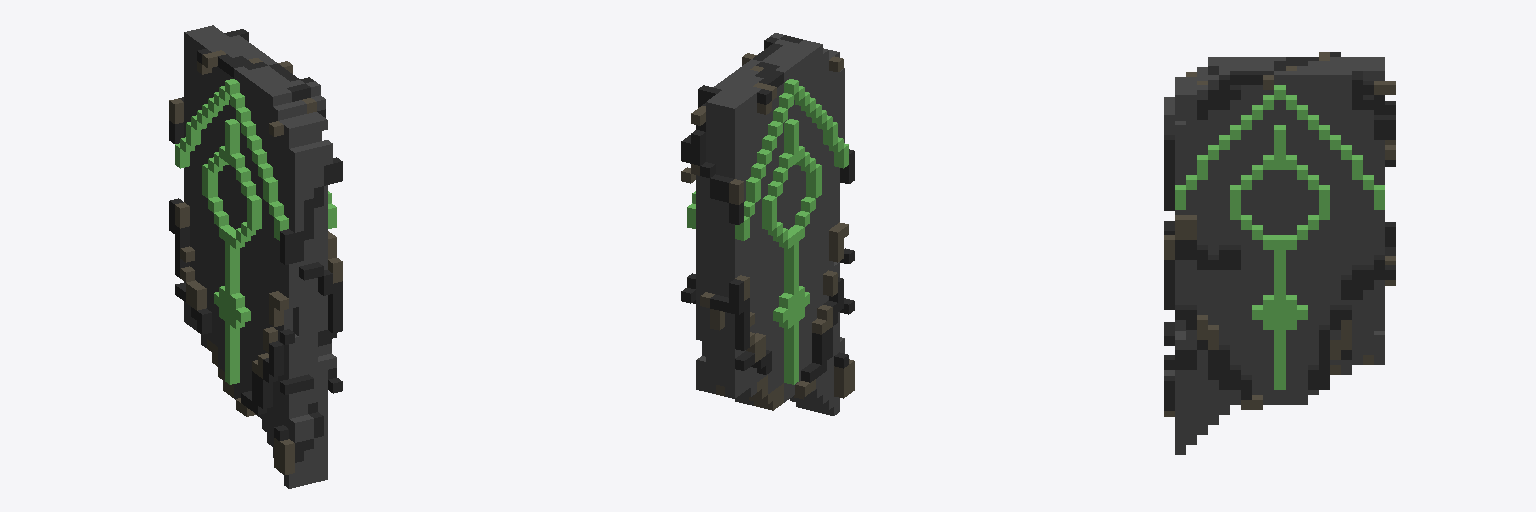
The picture shows the model from 3 angles: view 1: azimuth 30°, elevation 25°; view 2: azimuth 150°, elevation 25°; view 3: azimuth 270°, elevation 25°; orthographic projection.
Parts seen in each view (by area): view 1: object 1; view 2: object 1; view 3: object 1.
Part boxes in pixels (left/top/right/bottom): object 1: left=169, top=25, right=342, bottom=488; object 1: left=681, top=33, right=854, bottom=415; object 1: left=1164, top=52, right=1395, bottom=454.
Size of the model in its own units: 0.6 by 3.8 by 2.1.
Materials: 1 (1 with a texture image).